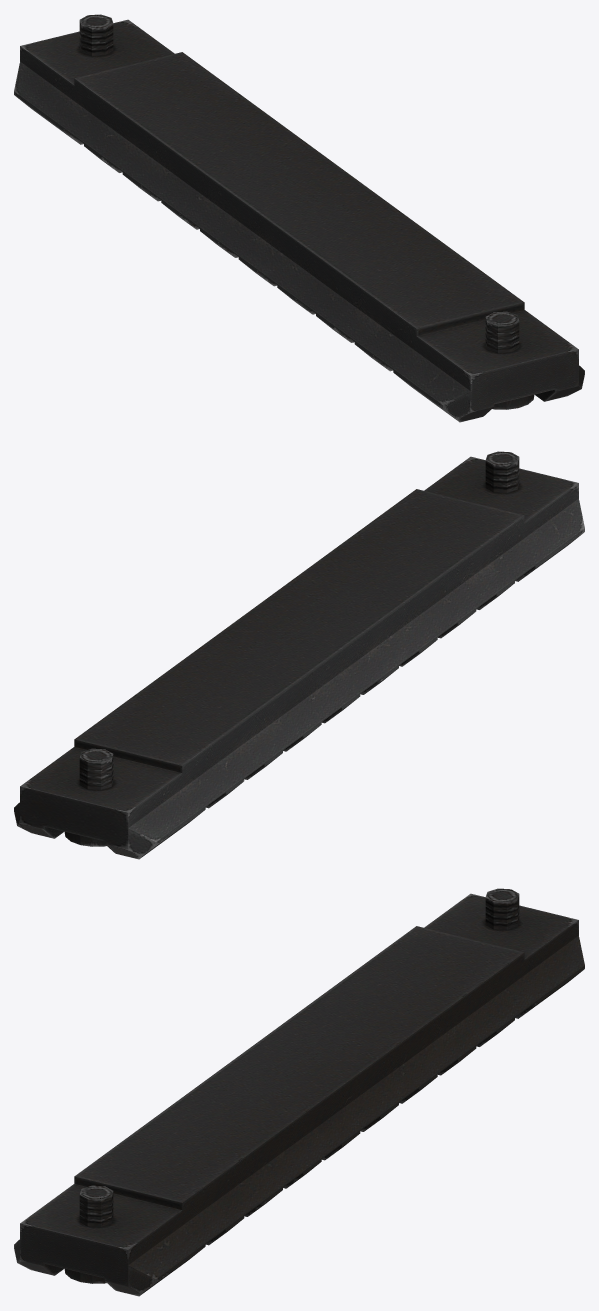
3 renders of one model, top to bottom at view 1: azimuth 30°, elevation 25°; view 2: azimuth 150°, elevation 25°; view 3: azimuth 330°, elevation 25°, orthographic.
Parts seen in each view (by area): view 1: TW_5fc53954f8b6a877a729eaeb_PZ_Import; view 2: TW_5fc53954f8b6a877a729eaeb_PZ_Import; view 3: TW_5fc53954f8b6a877a729eaeb_PZ_Import.
Boxes of the visible parts, x1=… form: TW_5fc53954f8b6a877a729eaeb_PZ_Import: x1=14, y1=14, x2=584, y2=422; TW_5fc53954f8b6a877a729eaeb_PZ_Import: x1=14, y1=451, x2=584, y2=859; TW_5fc53954f8b6a877a729eaeb_PZ_Import: x1=14, y1=888, x2=584, y2=1296.
Size of the model in its own units: 0.0123 by 0.0674 by 0.00678.
Materials: 1 (1 with a texture image).
